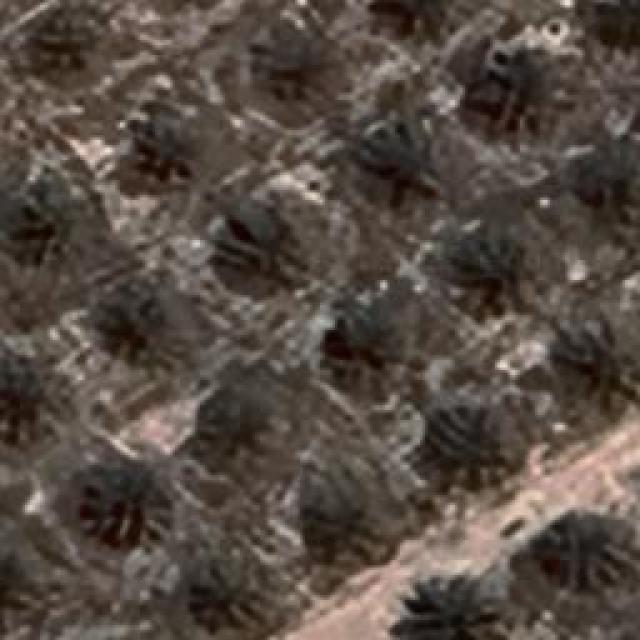PalmTree: (79, 28, 613, 68), (296, 462, 396, 558), (475, 47, 563, 135), (90, 278, 180, 364), (212, 208, 302, 292), (82, 460, 170, 545), (427, 405, 515, 490), (547, 505, 635, 590), (560, 315, 638, 410), (390, 570, 502, 635), (467, 230, 555, 312), (254, 30, 344, 108), (128, 92, 208, 178), (0, 350, 72, 440), (178, 548, 262, 624), (10, 180, 88, 260), (364, 110, 438, 185), (325, 308, 400, 378), (195, 390, 275, 452), (582, 131, 640, 214), (373, 0, 468, 39), (0, 540, 37, 628)
